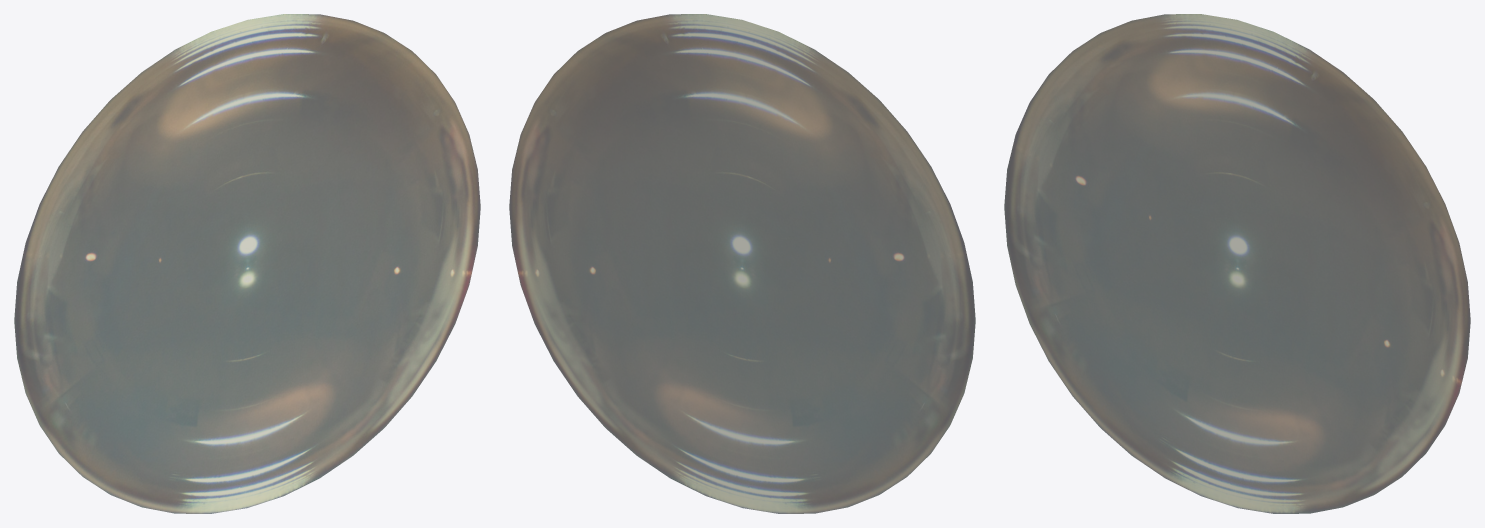
File: qipao.fbx
The picture shows the model from 3 angles, left to right: view 1: azimuth 30°, elevation 25°; view 2: azimuth 150°, elevation 25°; view 3: azimuth 330°, elevation 25°; orthographic projection.
Parts seen in each view (by area): view 1: pCylinder1; view 2: pCylinder1; view 3: pCylinder1.
Boxes of the visible parts, x1,y1,x2,y2 form: pCylinder1: (14,14,480,513); pCylinder1: (509,14,975,513); pCylinder1: (1004,14,1470,513).
Bounding box in the file's own units: 6.79 × 6.79 × 0.
1 material, 1 textured.
